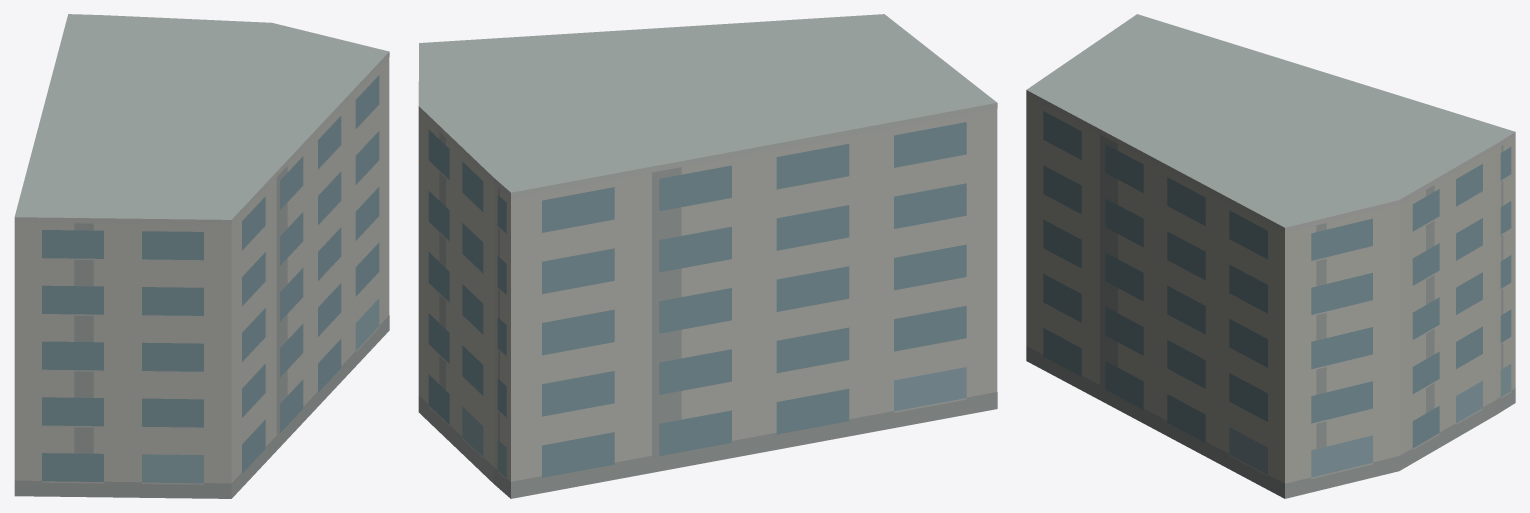
File: survey-upis-32926409.glb
The picture shows the model from 3 angles, left to right: view 1: azimuth 30°, elevation 25°; view 2: azimuth 150°, elevation 25°; view 3: azimuth 270°, elevation 25°; orthographic projection. The views are drawn at different scales.
Visible parts, largest first — view 1: survey-upis-32926409.tmp; view 2: survey-upis-32926409.tmp; view 3: survey-upis-32926409.tmp.
Part boxes in pixels (x1=…): survey-upis-32926409.tmp: x1=14, y1=14, x2=389, y2=498; survey-upis-32926409.tmp: x1=418, y1=14, x2=997, y2=498; survey-upis-32926409.tmp: x1=1026, y1=14, x2=1515, y2=498.
Size of the model in its own units: 21.15 by 12.5 by 20.46.
